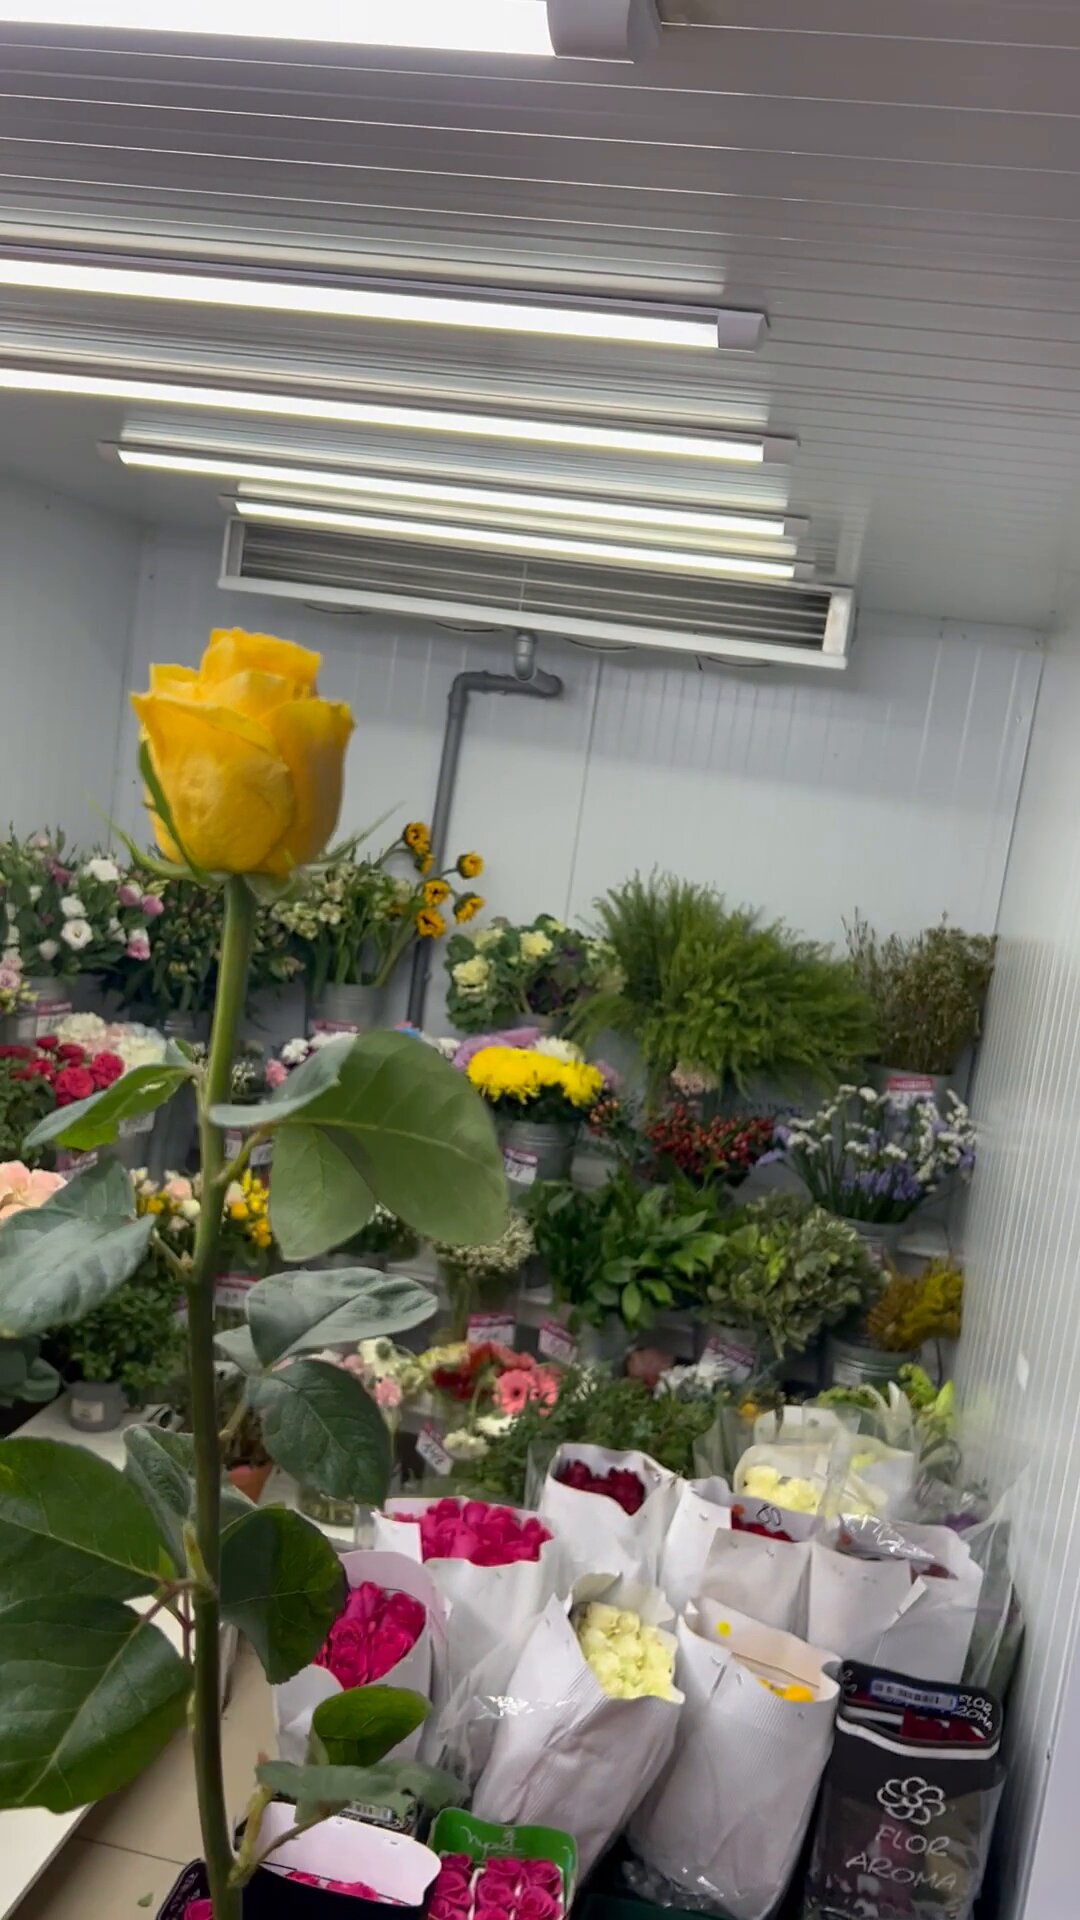rose: (33, 625, 465, 1900)
